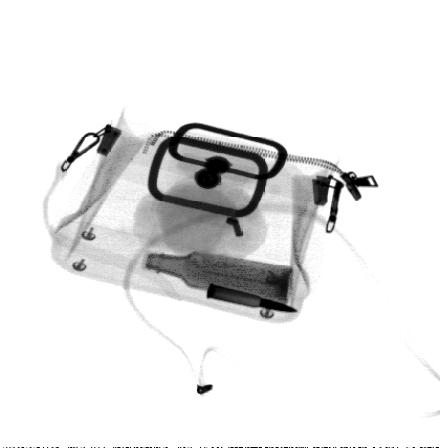Bullet: (205, 281, 302, 314)
